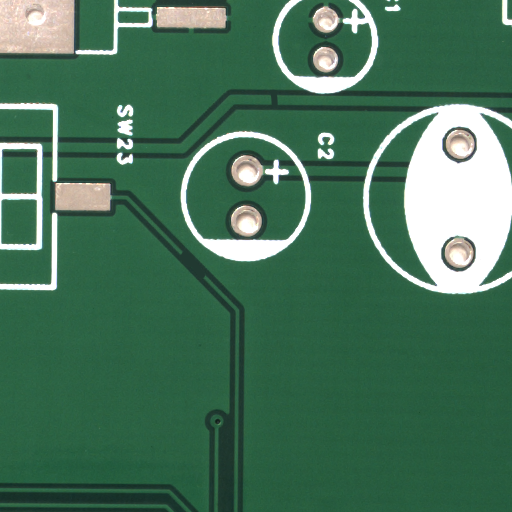Open_circuit: (193, 264, 216, 290), (274, 100, 281, 110)
